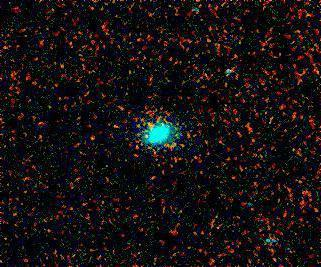star: (133, 109, 163, 139)
